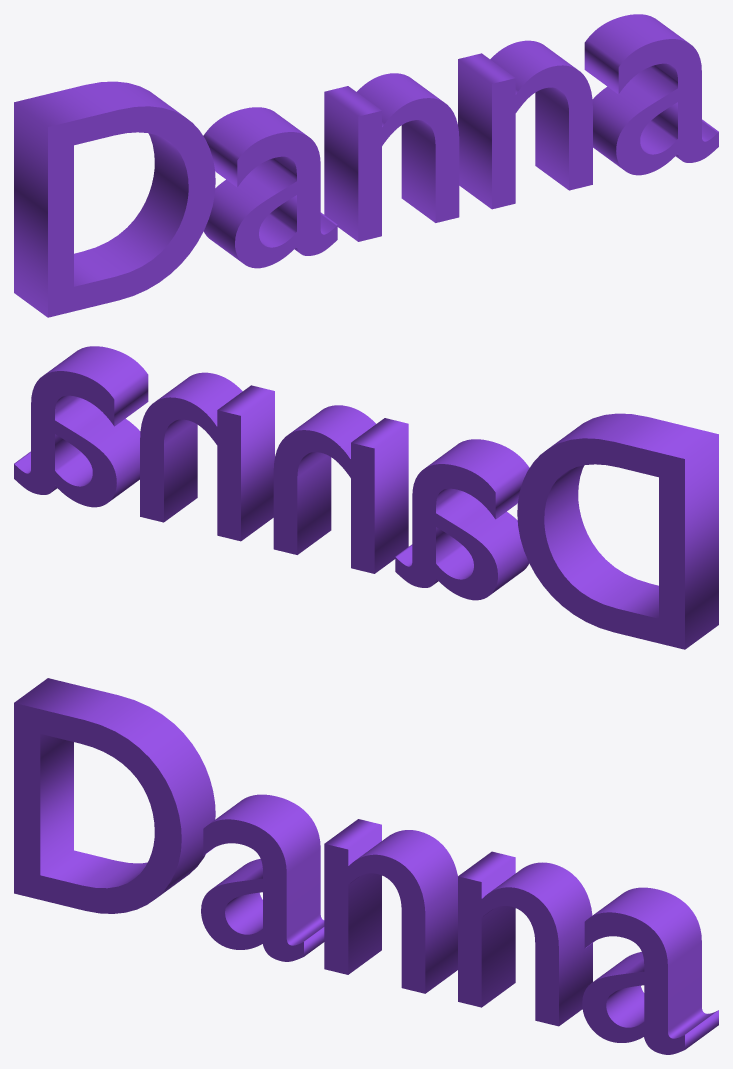
File: Danna.glb
The picture shows the model from 3 angles, top to bottom: view 1: azimuth 30°, elevation 25°; view 2: azimuth 150°, elevation 25°; view 3: azimuth 330°, elevation 25°; orthographic projection.
Parts seen in each view (by area): view 1: Text; view 2: Text; view 3: Text.
Boxes of the visible parts, box(x1,y1,x2,y2) form: Text: box(14, 14, 718, 317); Text: box(14, 346, 718, 649); Text: box(14, 678, 718, 1054).
Bounding box in the file's own units: 2.51 × 0.691 × 0.22.
